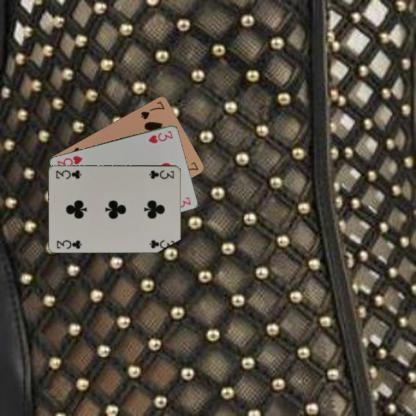3c: (54, 237, 84, 250), (147, 168, 175, 180)
3h: (146, 128, 174, 144)
7s: (138, 98, 166, 120)
